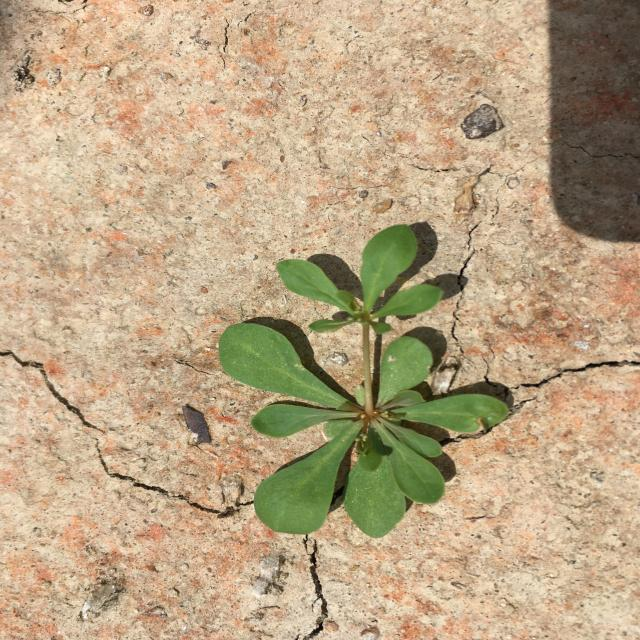Carpetweed: (218, 224, 510, 538)
